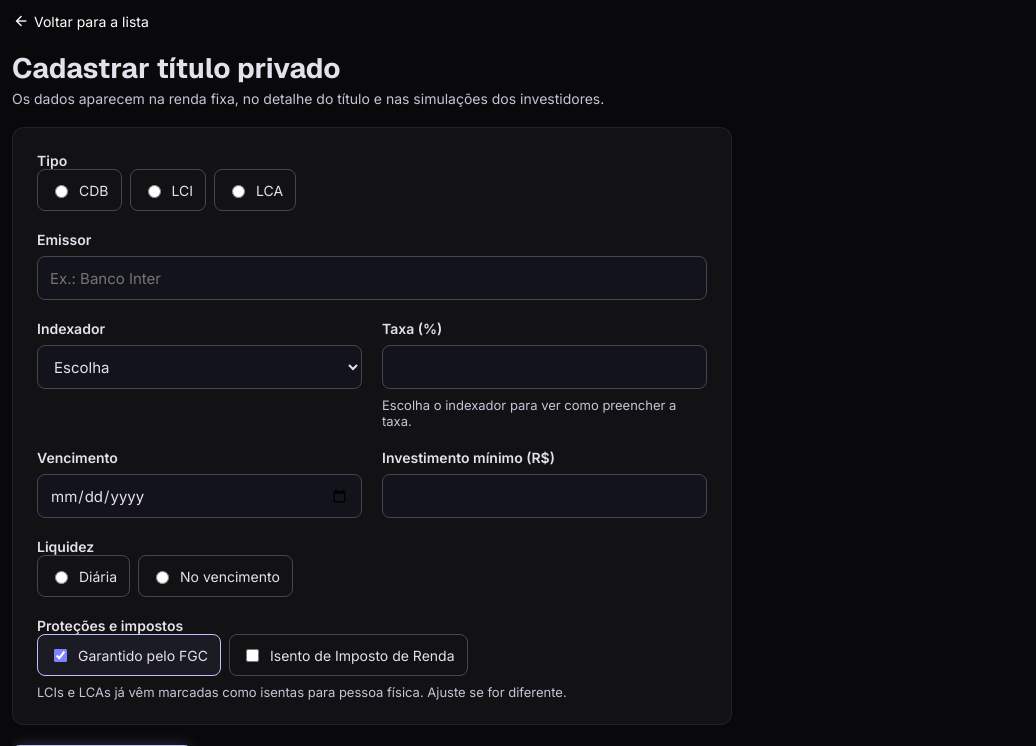
Test: FormularioTituloComponent › a dica da taxa deve mudar com o indexador e mostrar como o investidor vai ver
Expected: the text with id "titulo-taxa-ajuda" shows "Escolha o indexador", [382,397,676,429]
Select "IPCA" in the dropdown labelled "Indexador" at (200, 367), box [37,345,362,389]
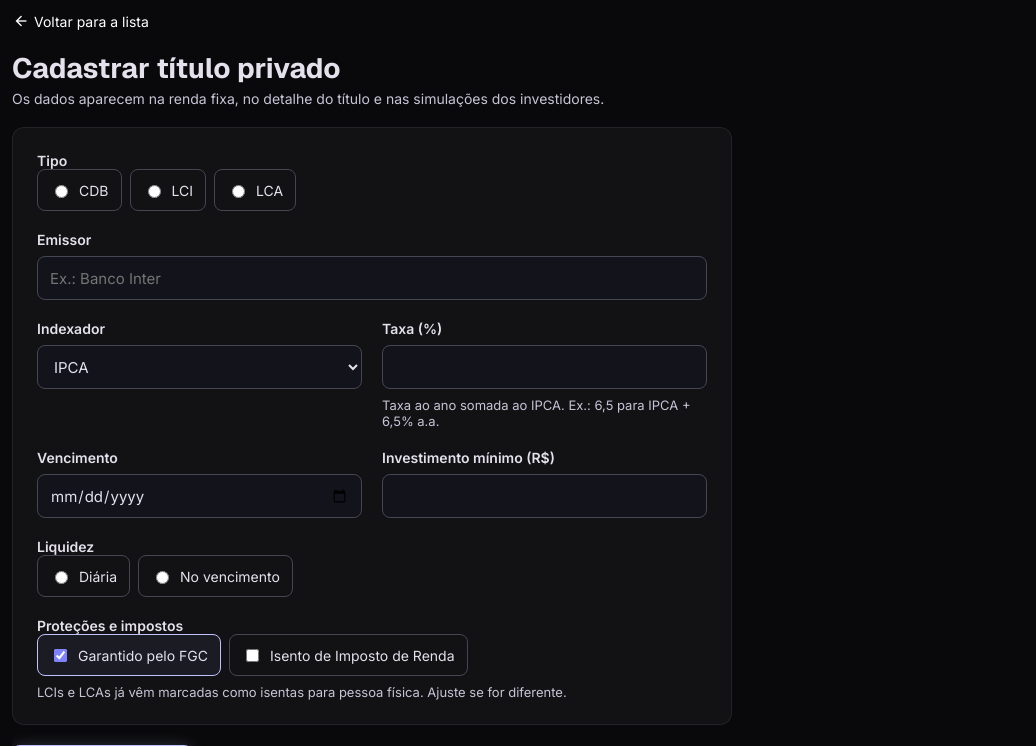
Type "6.5" into the number field labelled "Taxa (%)" at (544, 367), box [382,345,707,389]
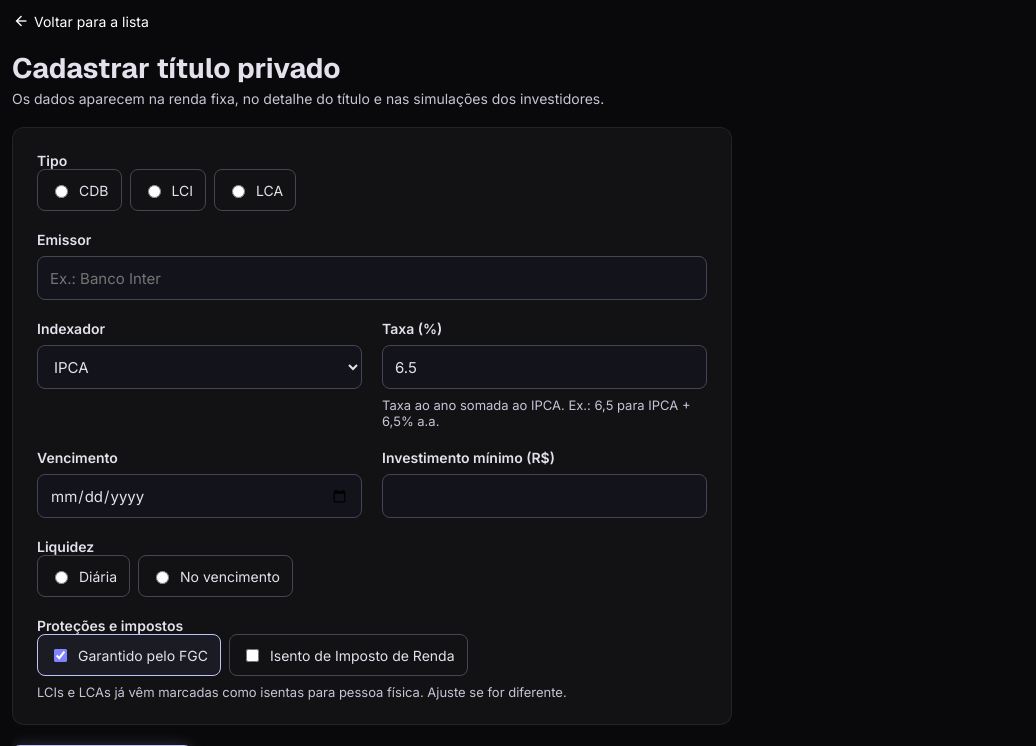
Leave the number field labelled "Taxa (%)", box [382,345,707,389]
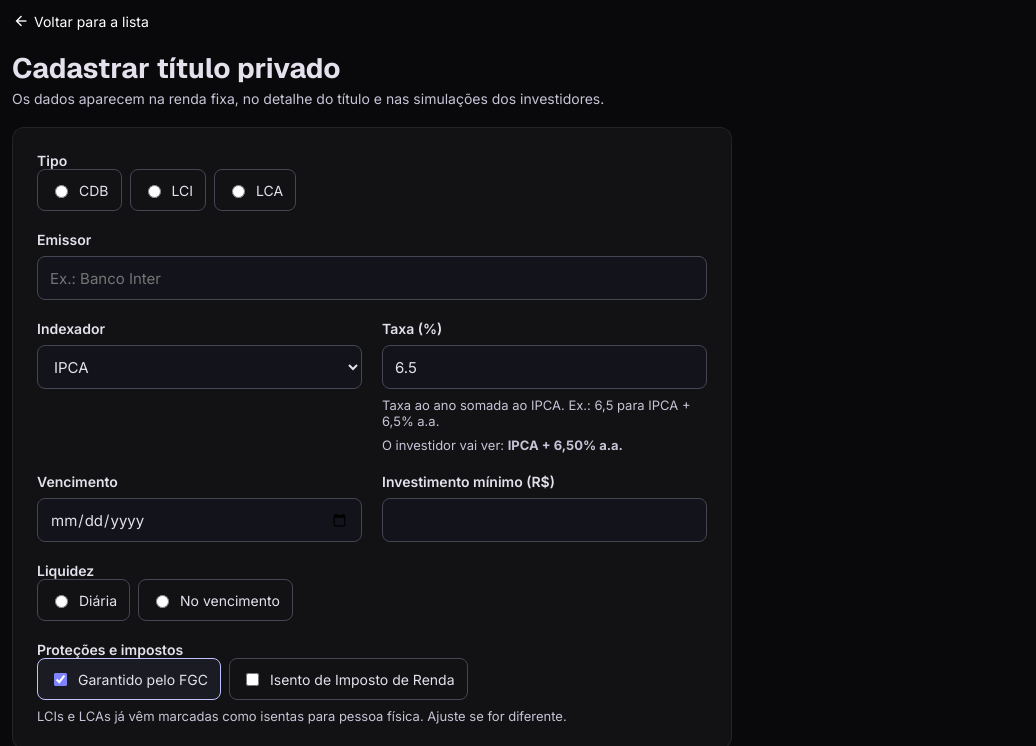
Result: the text with id "titulo-taxa-ajuda" shows "somada ao IPCA" at [382,397,690,429]
Result: the element with id "titulo-taxa-previa" shows "IPCA + 6,50% a.a." at [508,437,623,453]
Select "CDI" in the dropdown labelled "Indexador" at (200, 367), box [37,345,362,389]
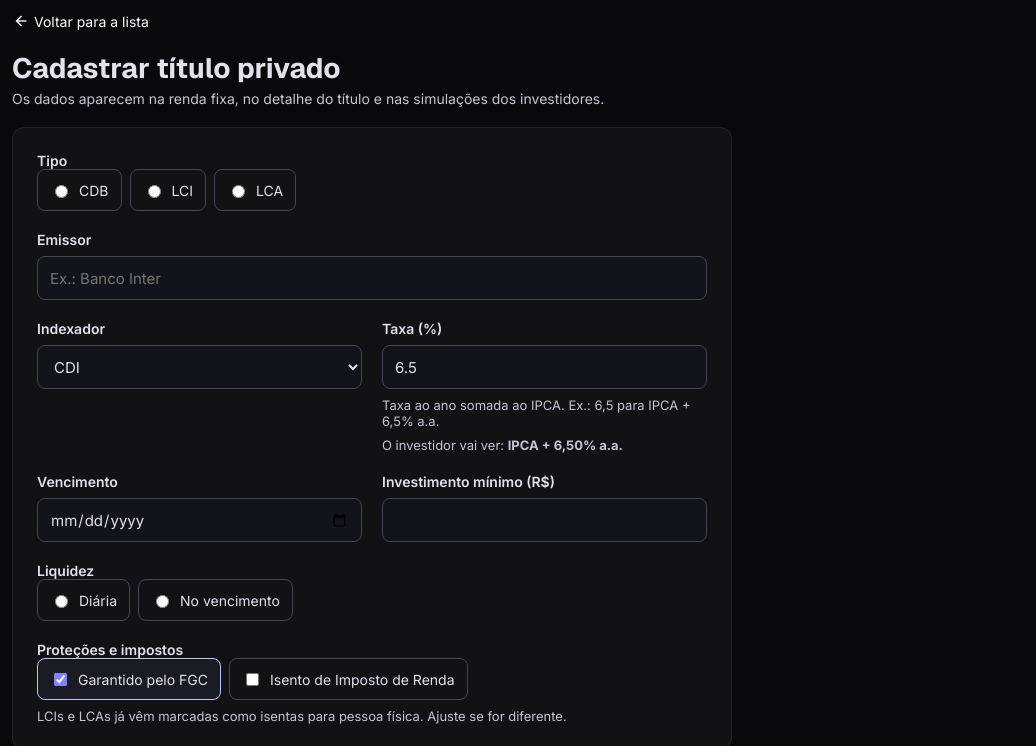
Leave the dropdown labelled "Indexador", box [37,345,362,389]
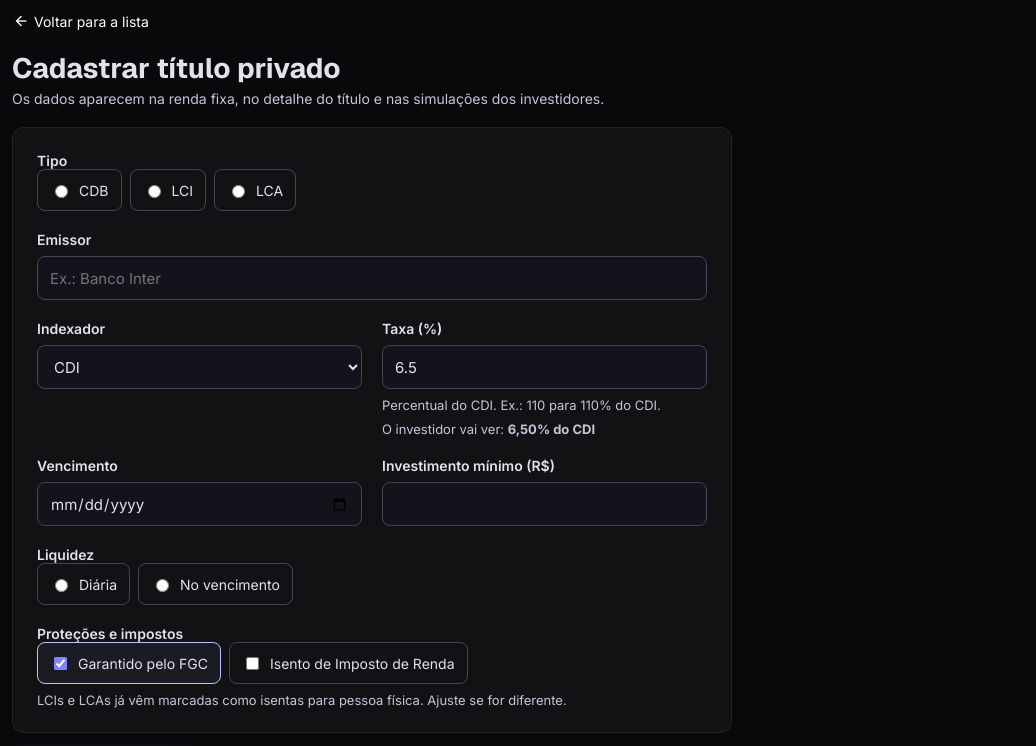
Result: the element with id "titulo-taxa-previa" shows "6,50% do CDI" at [508,421,595,437]
